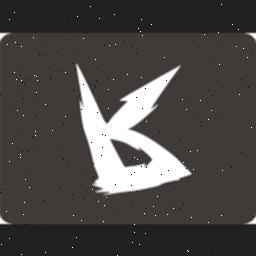k: (67, 58, 173, 168)
